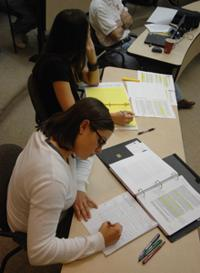person: (5, 97, 124, 268)
